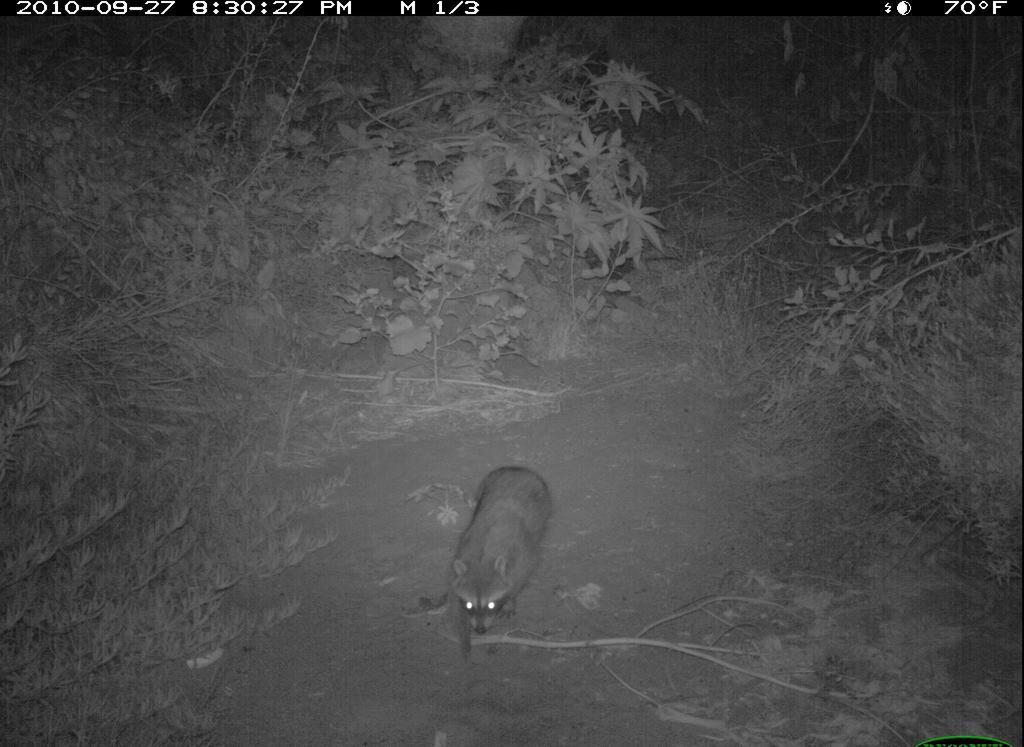raccoon: (446, 464, 561, 660)
